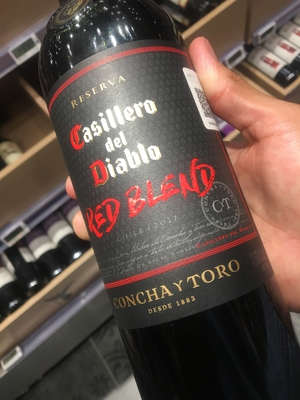casillero del diablo red blend: (41, 7, 273, 383)
